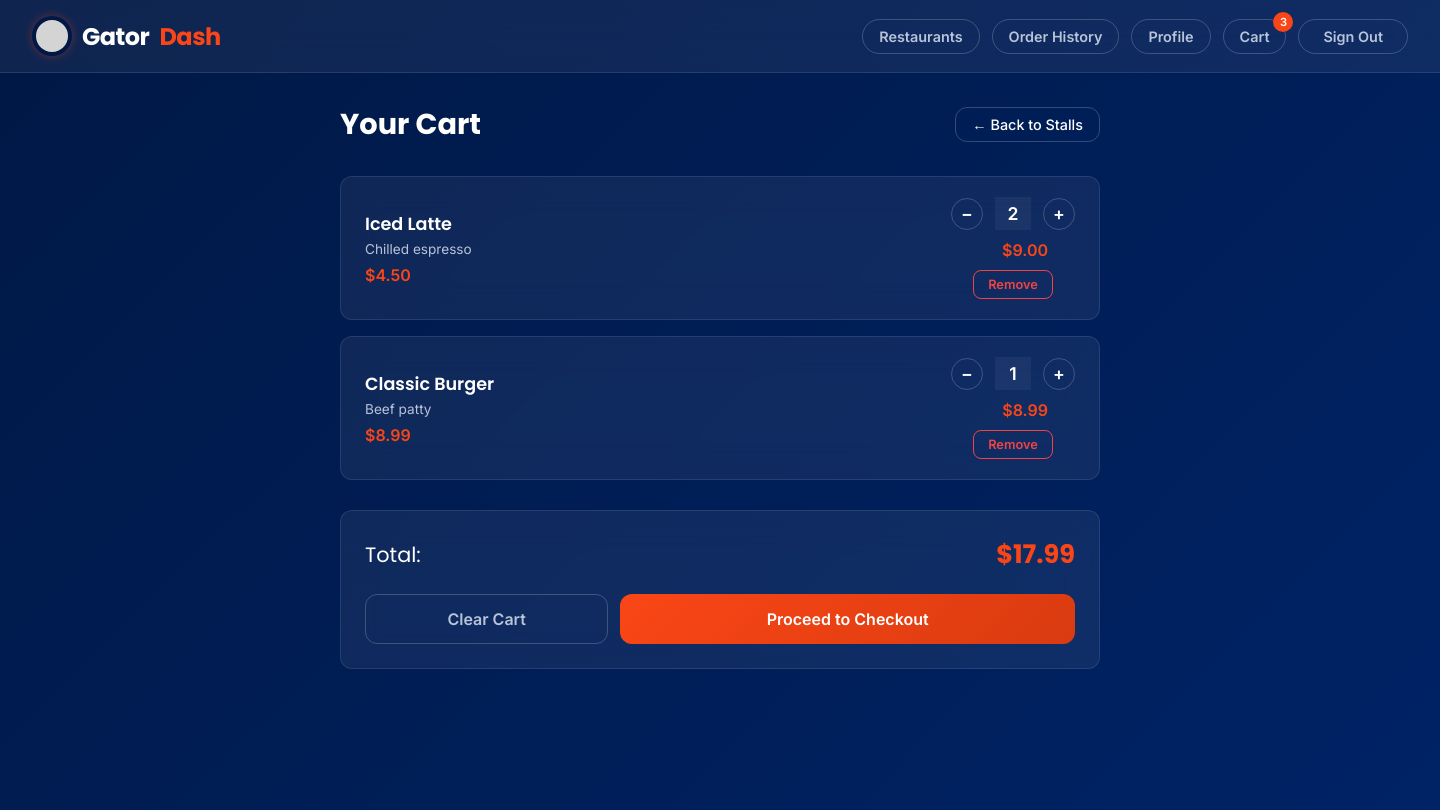
Scenario: Cart Component › removes item when remove button is clicked
This screenshot has width=1440, height=810.
Click the button "Remove" below "9.00": (1013, 284) [973,270,1053,299]
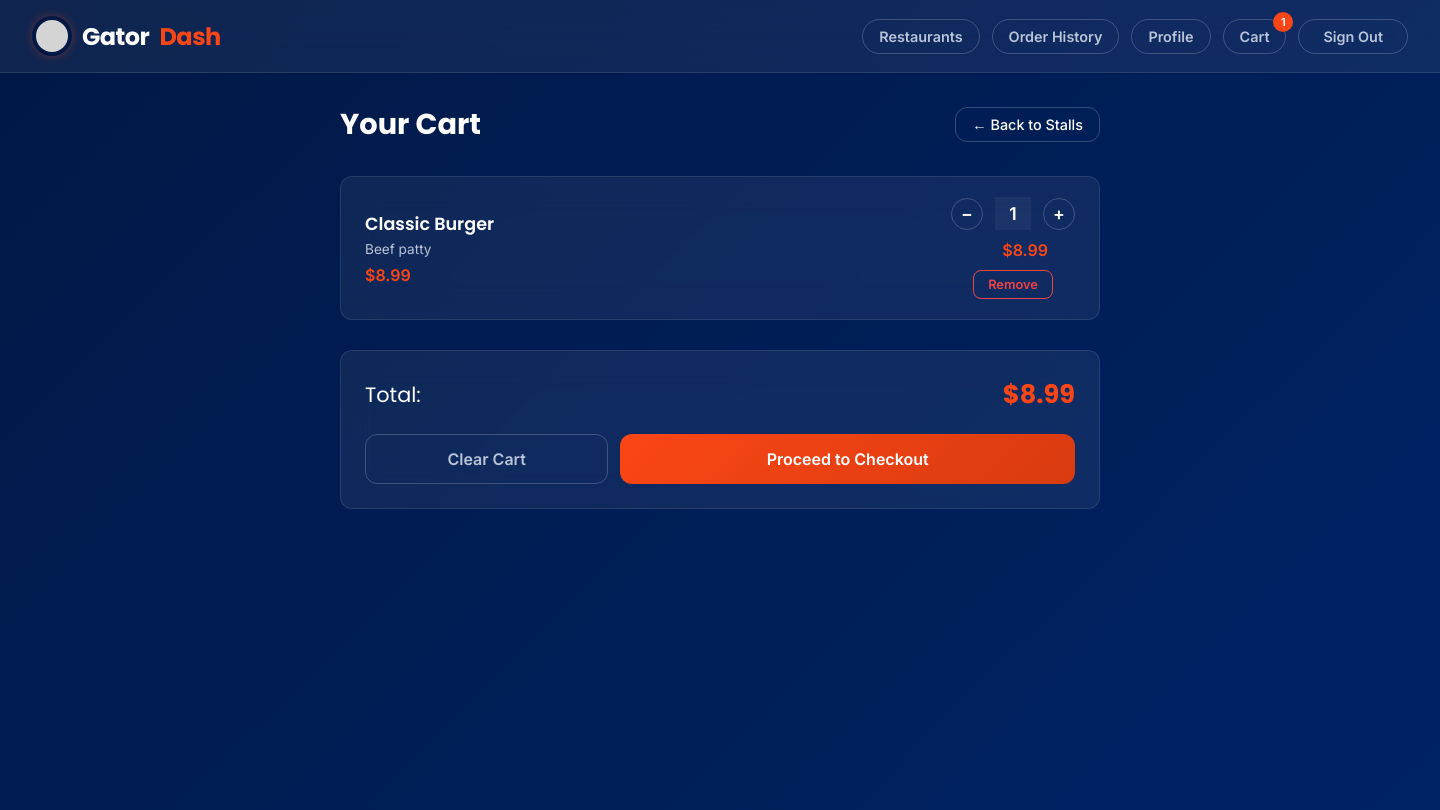
expect the heading "Iced Latte" is gone: met
